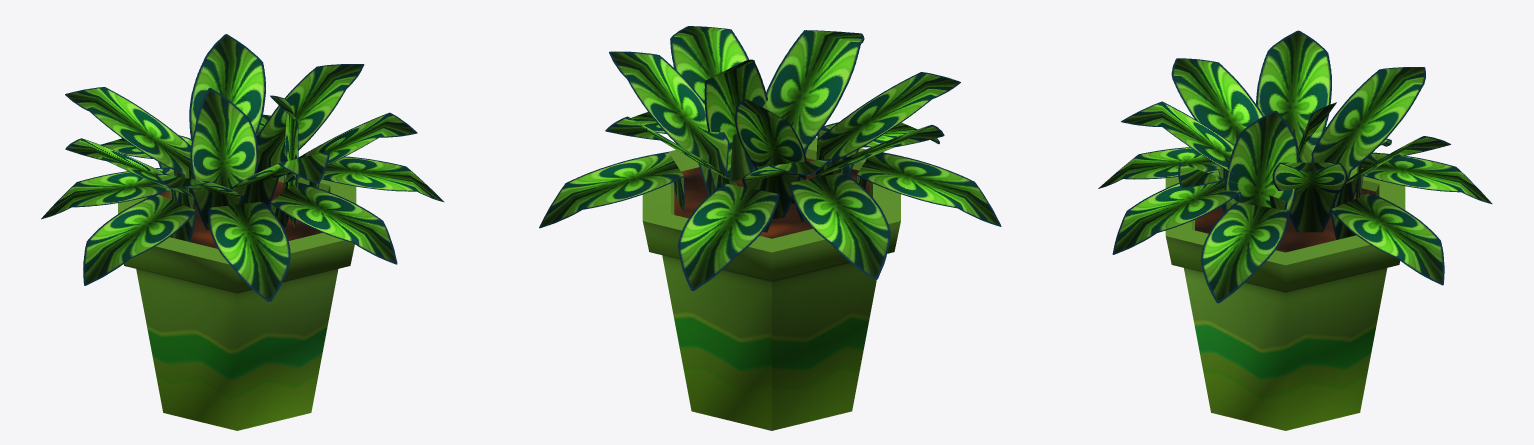
The model's file is Potted Plant_B_3.FBX.
The picture shows the model from 3 angles, left to right: view 1: azimuth 30°, elevation 25°; view 2: azimuth 150°, elevation 25°; view 3: azimuth 270°, elevation 25°; orthographic projection. The views are drawn at different scales.
Parts seen in each view (by area): view 1: Potted Plant _B; view 2: Potted Plant _B; view 3: Potted Plant _B.
Boxes of the visible parts, x1,y1,x2,y2 form: Potted Plant _B: [41, 34, 444, 430]; Potted Plant _B: [539, 26, 1001, 430]; Potted Plant _B: [1098, 30, 1492, 430].
Bounding box in the file's own units: 151 × 108 × 143.
Materials: 2 (2 with a texture image).
